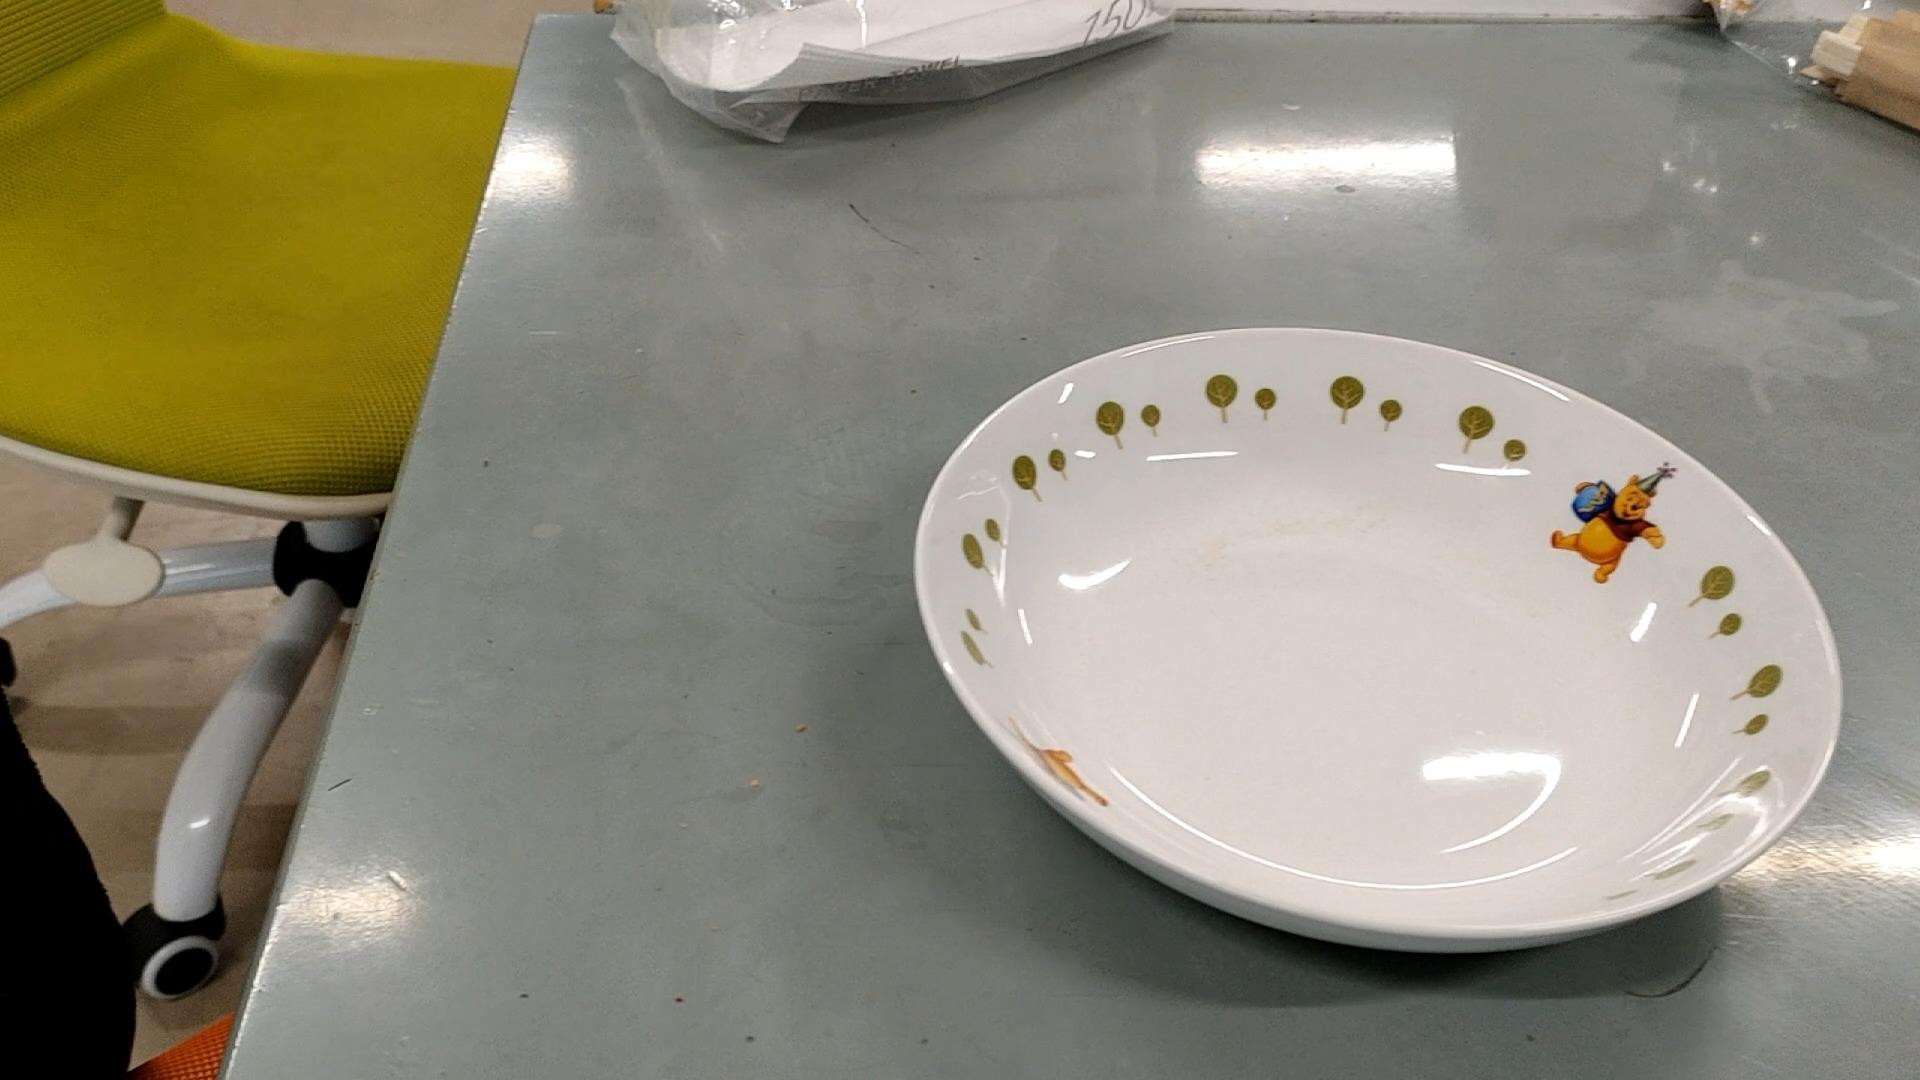plate: (913, 328, 1847, 949)
